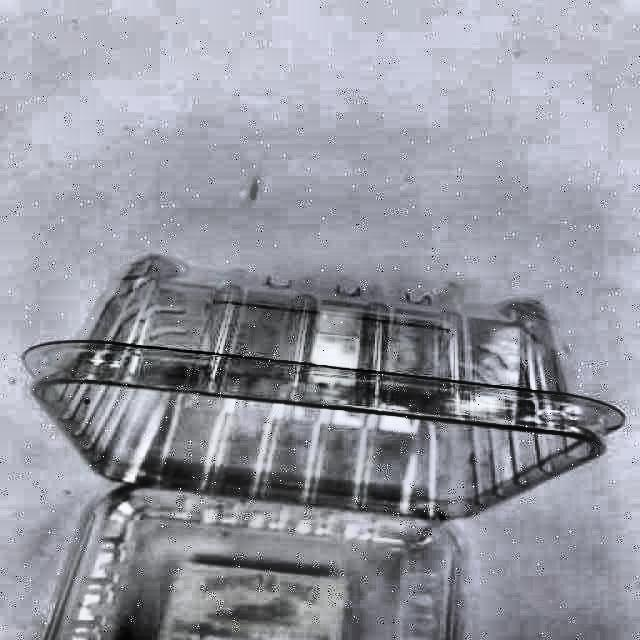plastic: (23, 256, 623, 639)
